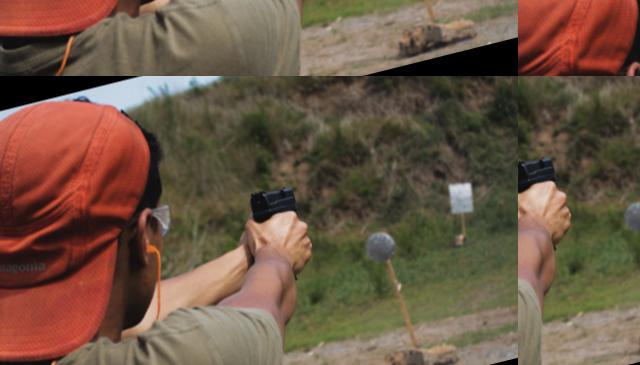handgun: (393, 0, 518, 69), (474, 76, 518, 161), (518, 148, 566, 214), (518, 37, 561, 76)
